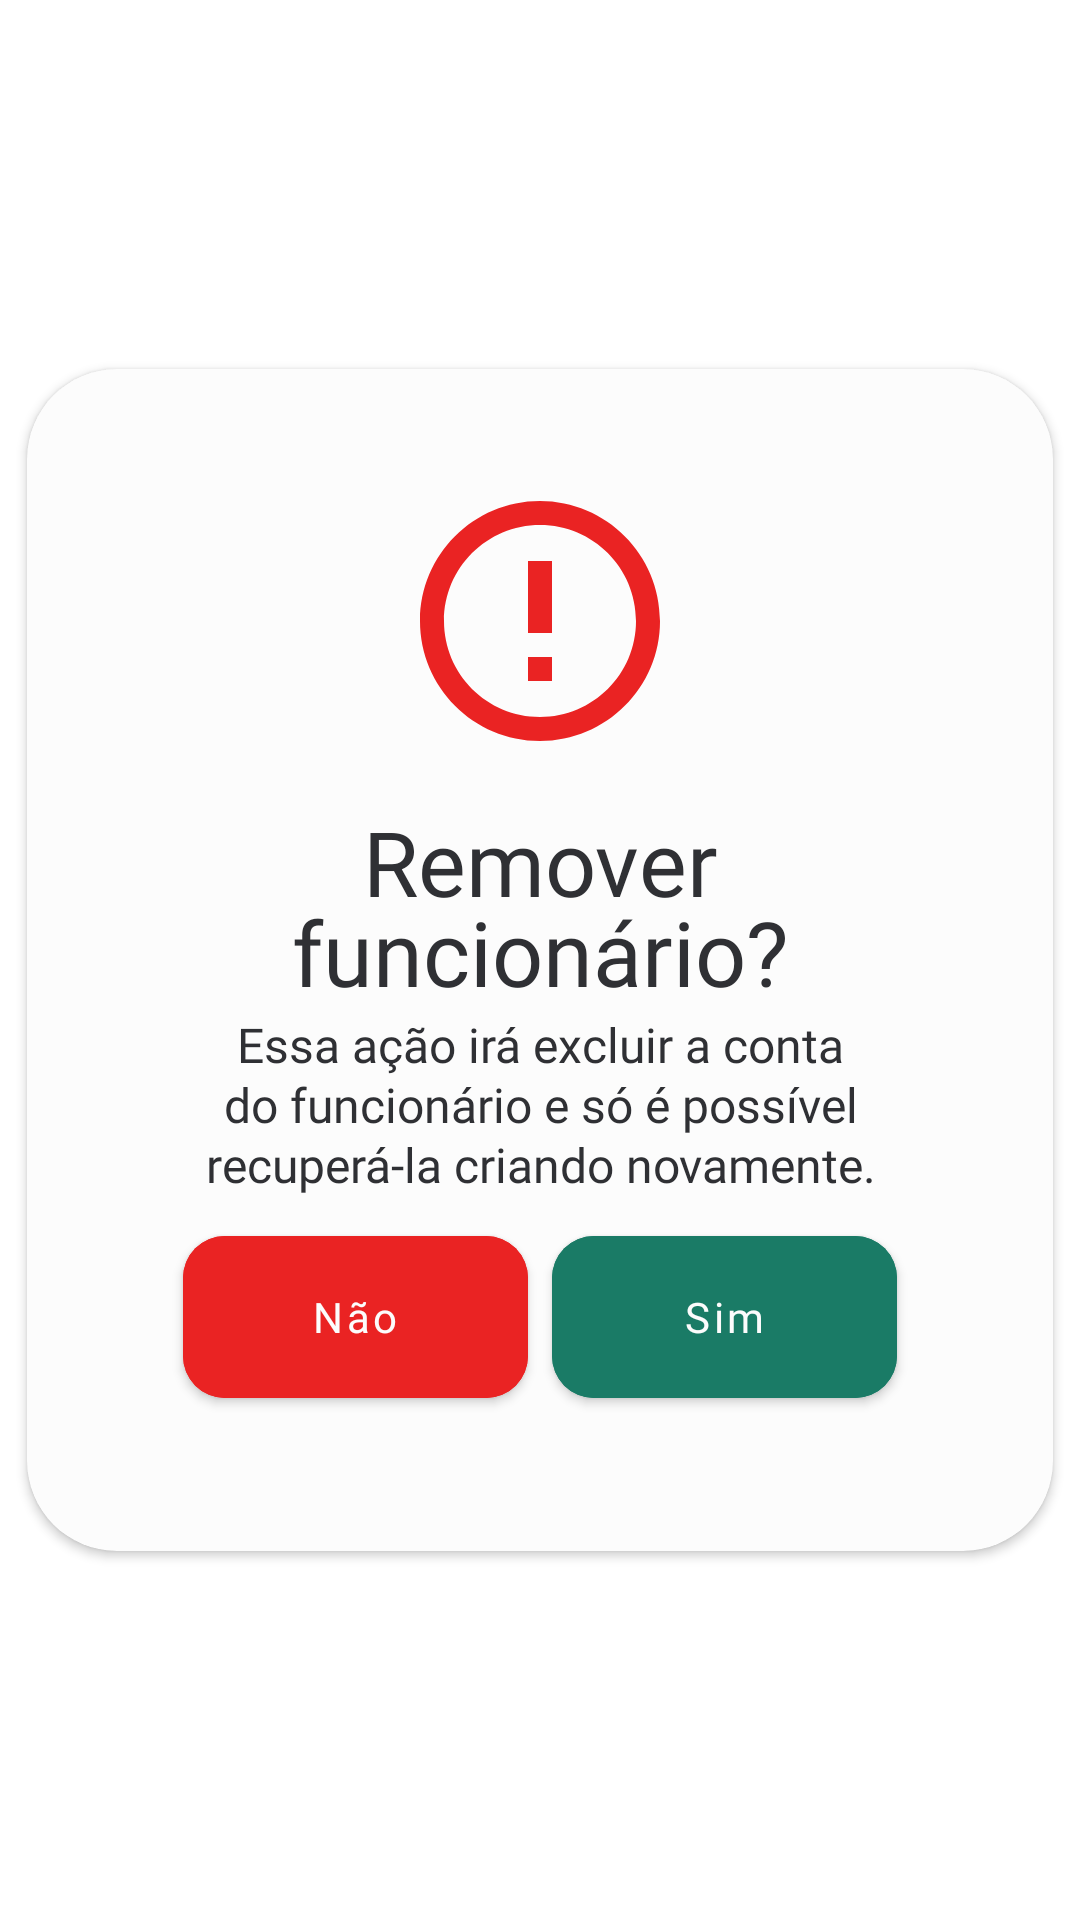

Screen size 1080px x 1920px. Icon name, then its box in pixels as {"left": x1, "top": y1, "right": x2, "bottom": y2}:
alerta: {"left": 420, "top": 501, "right": 660, "bottom": 741}
